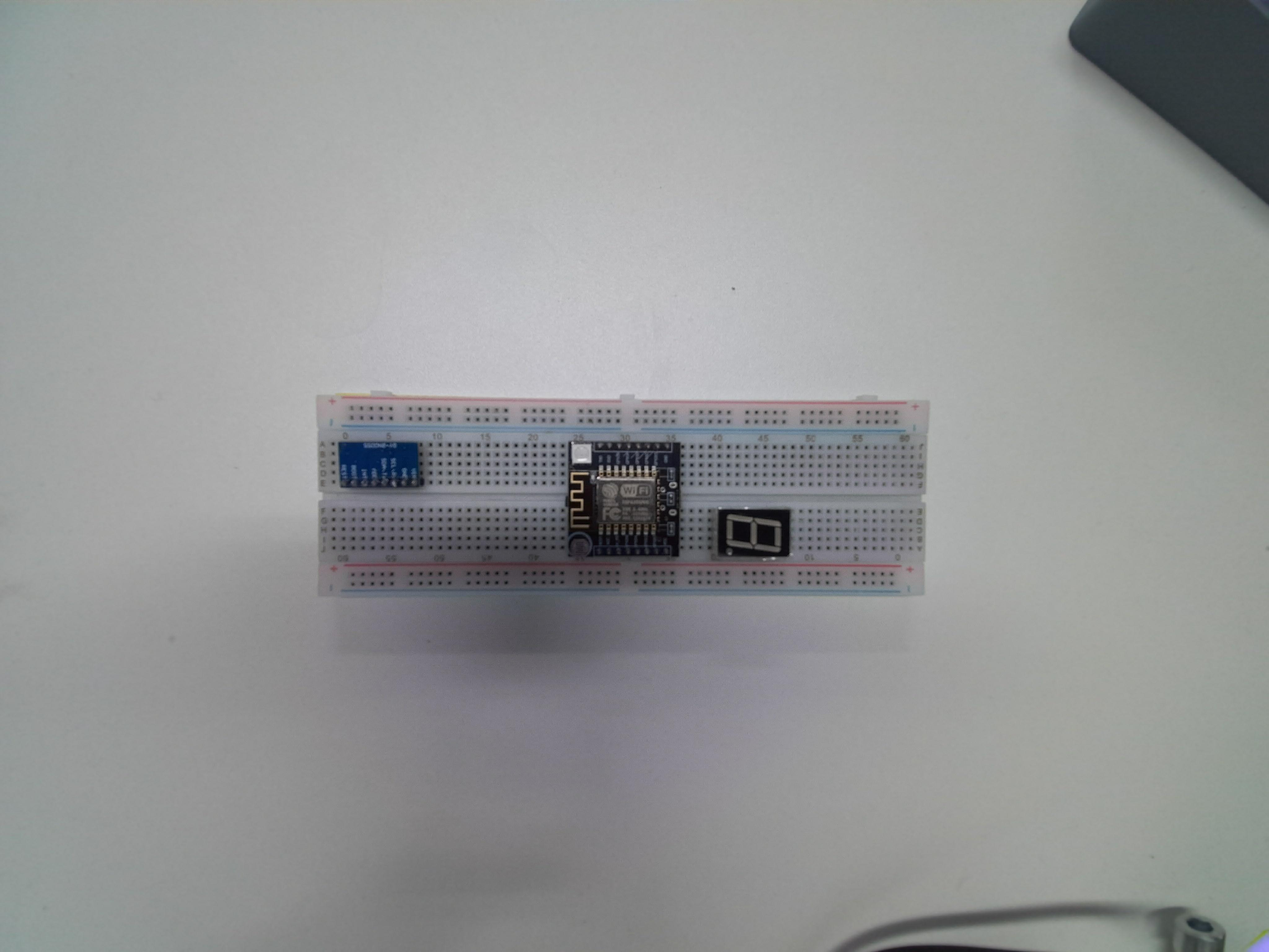base: (312, 392, 931, 599)
blue-board: (336, 440, 424, 490)
digit-board: (715, 505, 792, 560)
esp: (564, 440, 683, 562)
